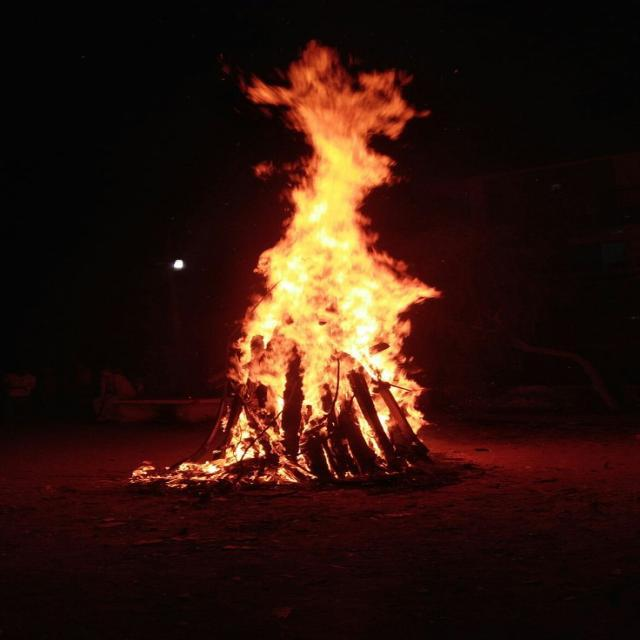Fire: (182, 42, 436, 489)
